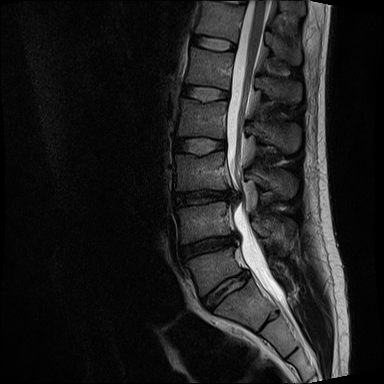Lumbar Disc Bulge (LDB): (197, 259, 257, 316), (174, 224, 247, 266), (169, 179, 247, 213)
Normal IVD: (168, 128, 228, 159), (171, 80, 233, 107), (184, 29, 239, 55)
Spinal Stenosis (SS): (215, 175, 258, 217), (227, 262, 264, 289), (218, 227, 248, 251)
